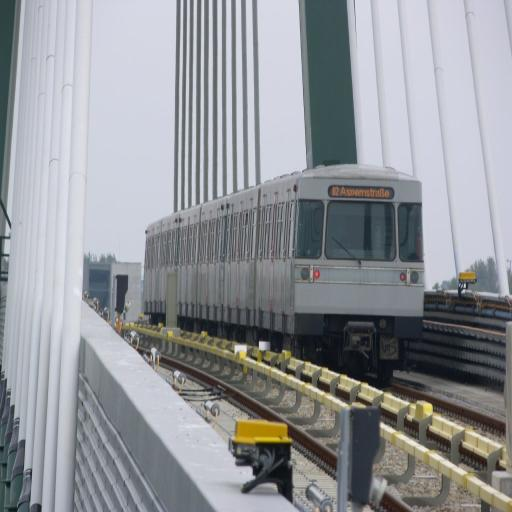Silberpfeil: (142, 160, 424, 339)
